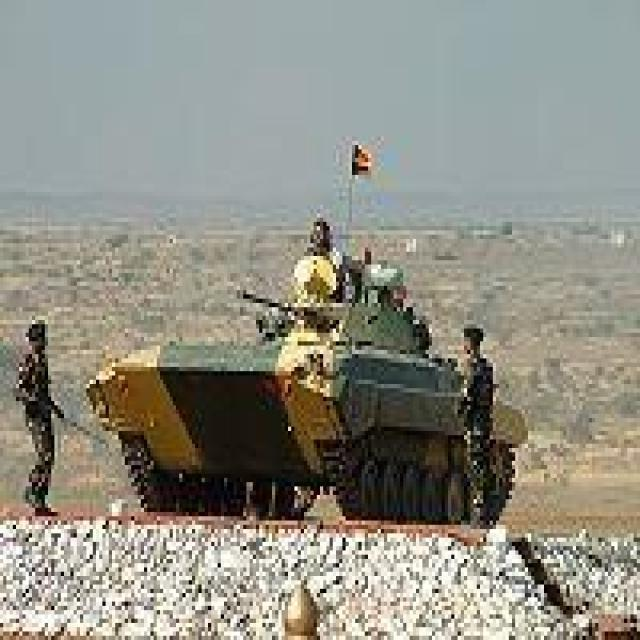MIL_MBT: (91, 243, 523, 533)
